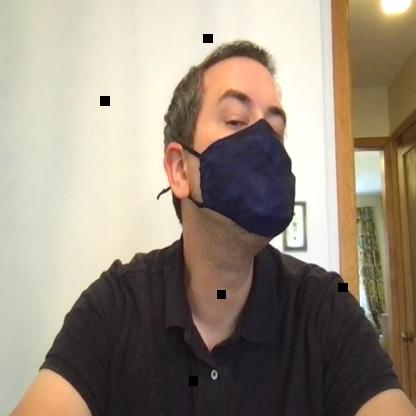mask: (164, 40, 297, 238)
